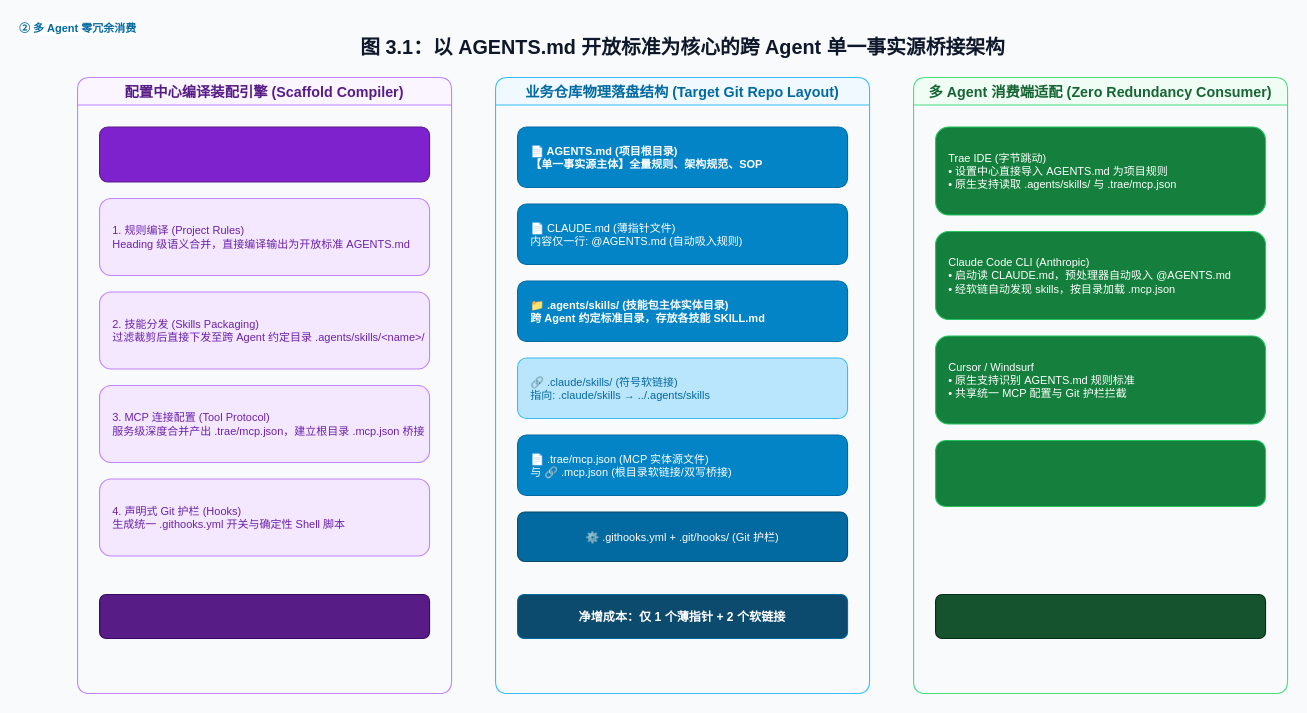
The diagram is 1307 pixels wide and 713 high, and some of its shapes have lost their labels. The shapes that lost their labels are listed below. From the top down, each one's centre as x and y in pixels, then its label:
point 264,154: 四层领域驱动编译流水线 Common → Domain → Role → Stack
point 1100,473: opencode / Devin / Aider • 业界通用开放标准兼容，全方位零摩擦接入
point 264,616: 单一事实源 (SSOT) · 拒绝多份配置两张皮
point 1100,616: 一次装配，全 Agent 矩阵统一生效
